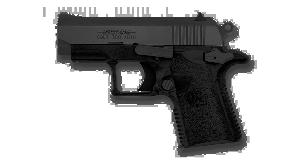handgun: (47, 10, 263, 154)
